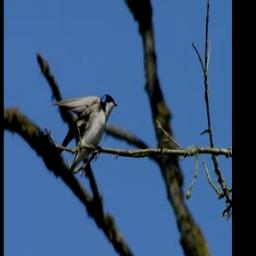Swallow: (51, 91, 118, 179)
